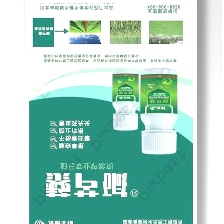insecticide: (138, 65, 179, 157), (110, 67, 141, 132)
